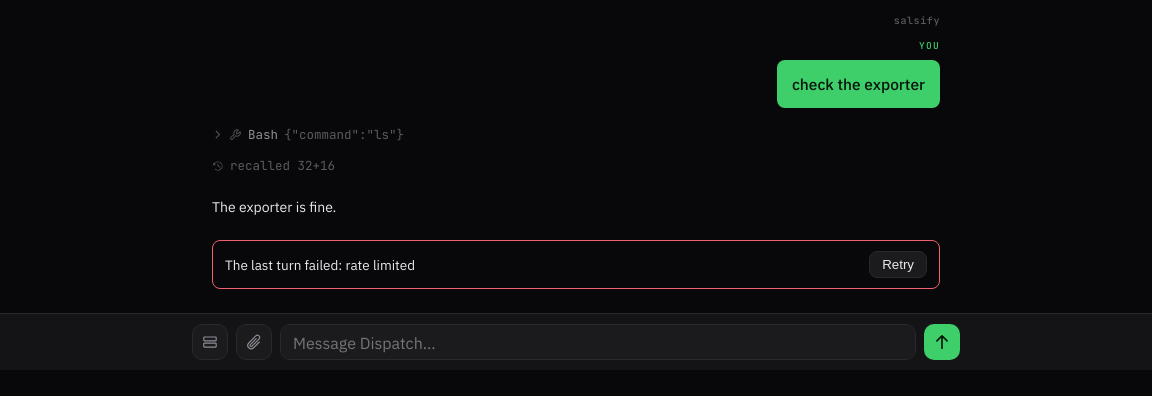
EndlessColumn › shows the error when Retry is refused (409), with no unhandled rejection
The image size is (1152, 396).
Click the button "Retry": [898, 265] box [869,252,927,278]
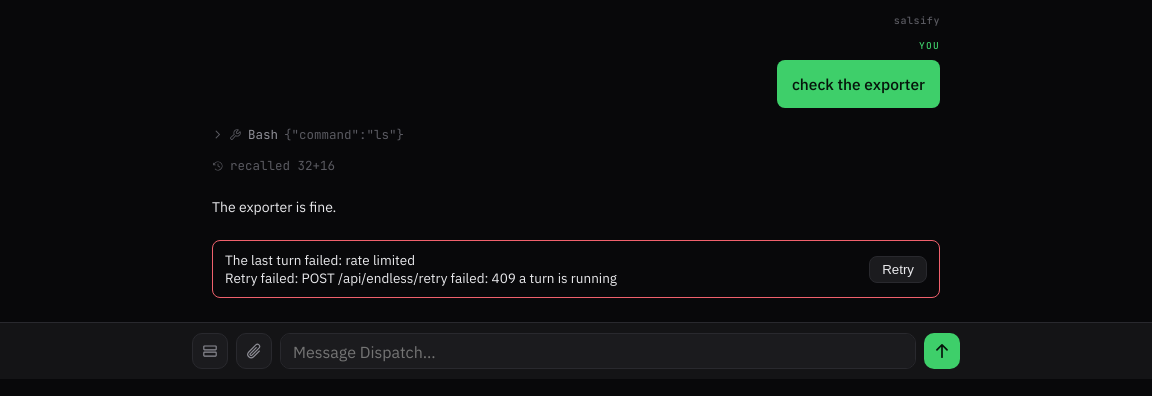
expect the text "409 a turn is running" is shown: met, box [225,270,617,288]
